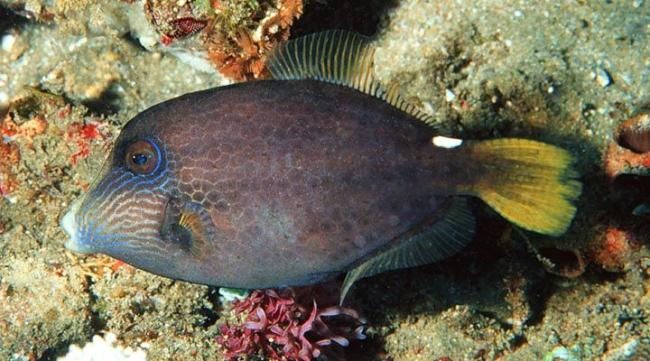fish: (60, 29, 584, 290)
